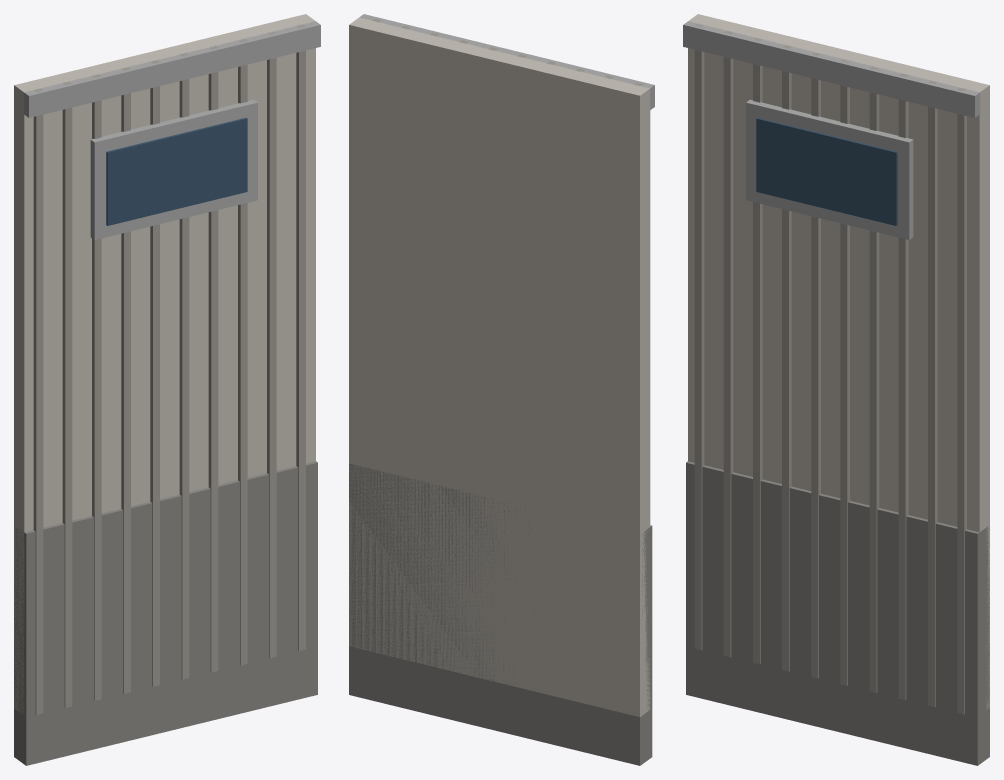
Rendered from shed_wall_window.obj.
3 views of the same model, side by side, from view 1: azimuth 30°, elevation 25°; view 2: azimuth 150°, elevation 25°; view 3: azimuth 330°, elevation 25° (orthographic).
Bounding box in the file's own units: 2.5 × 5.5 × 0.26.
